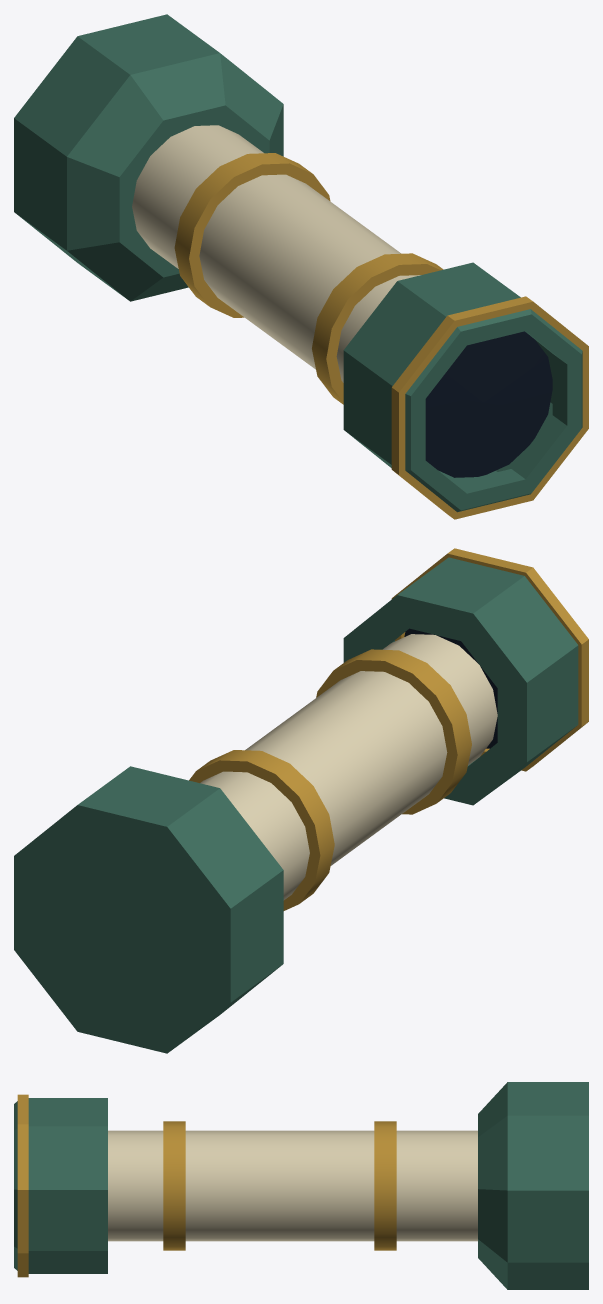
File: pd3_emitter.obj
3 renders of one model, top to bottom at view 1: azimuth 30°, elevation 25°; view 2: azimuth 150°, elevation 25°; view 3: azimuth 270°, elevation 25°, orthographic. The views are drawn at different scales.
Visible parts, largest first — view 1: pd3_emitter; view 2: pd3_emitter; view 3: pd3_emitter.
Part boxes in pixels (x1=…): pd3_emitter: x1=14, y1=14, x2=588, y2=519; pd3_emitter: x1=14, y1=548, x2=588, y2=1053; pd3_emitter: x1=14, y1=1082, x2=588, y2=1289.
Bounding box in the file's own units: 0.52 × 0.52 × 1.55.
